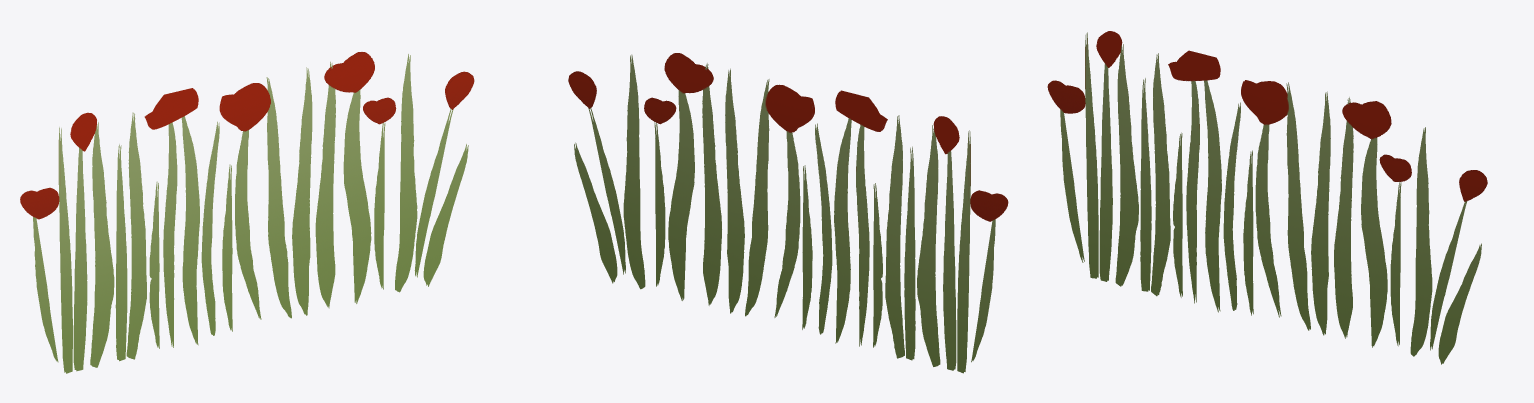
Rendered from SM_grass_flowers_01.fbx.
3 views of the same model, side by side, from view 1: azimuth 30°, elevation 25°; view 2: azimuth 150°, elevation 25°; view 3: azimuth 330°, elevation 25° (orthographic).
Visible parts, largest first — view 1: grass_flowers_01; view 2: grass_flowers_01; view 3: grass_flowers_01.
Part boxes in pixels (bbox=[...]): grass_flowers_01: bbox=[20, 52, 474, 373]; grass_flowers_01: bbox=[568, 53, 1008, 373]; grass_flowers_01: bbox=[1047, 31, 1487, 364].
Size of the model in its own units: 193 by 97.56 by 3.9.
